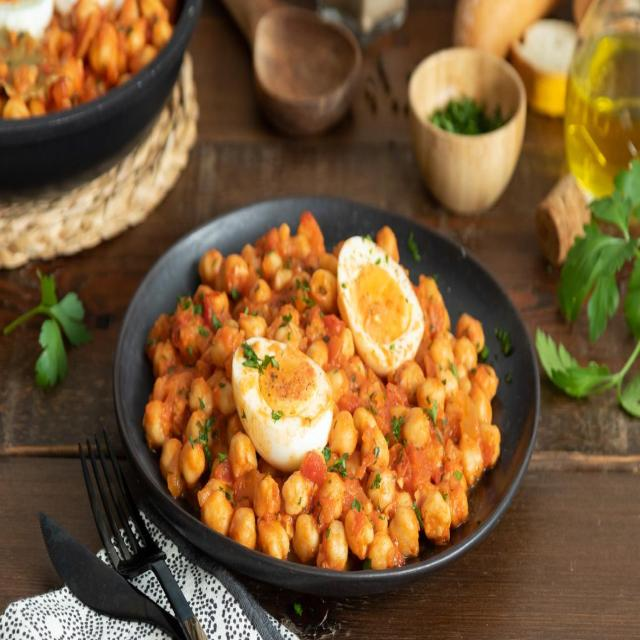garbanzos: (339, 367, 519, 569)
huevos: (333, 232, 424, 374), (235, 338, 338, 450)
